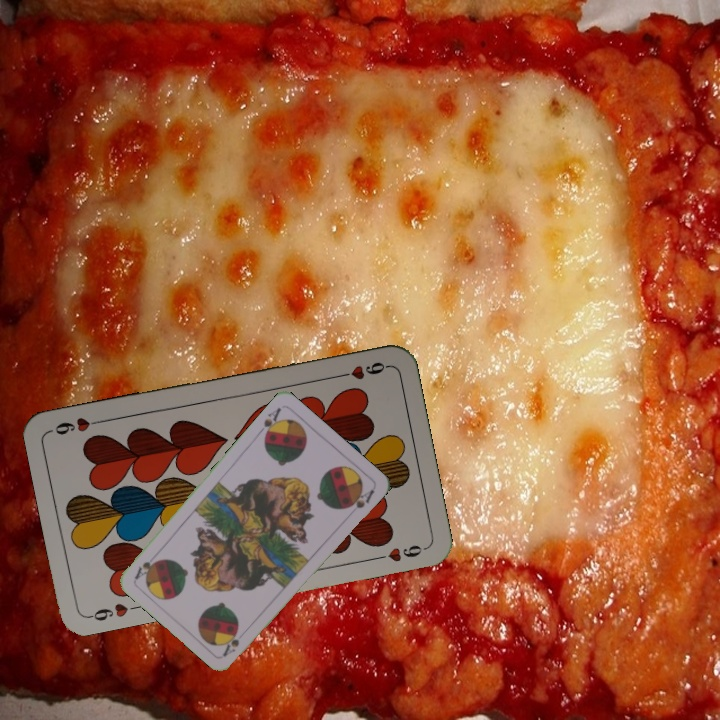H9: (332, 357, 391, 383), (84, 599, 131, 624)
SA: (253, 403, 284, 442), (219, 629, 242, 658)
